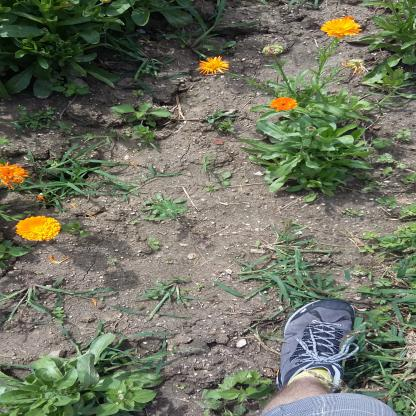marigold: (217, 356, 239, 398), (19, 56, 36, 94), (98, 118, 111, 144)
